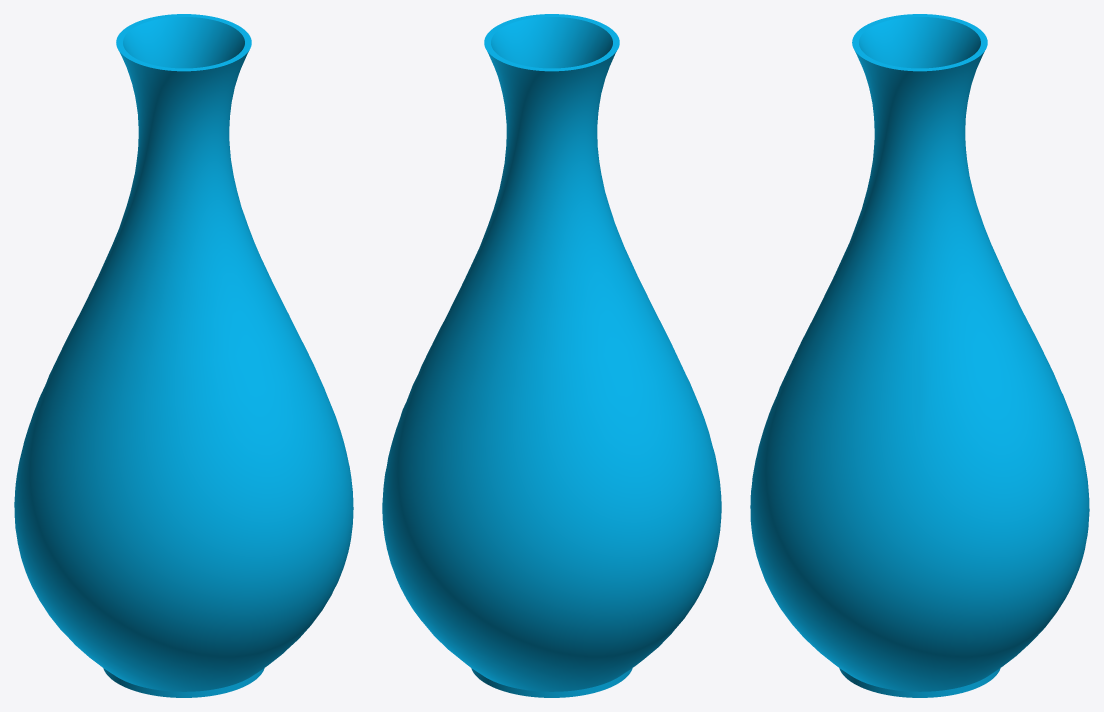
Rendered from vazo.gltf.
3 renders of one model, left to right at view 1: azimuth 30°, elevation 25°; view 2: azimuth 150°, elevation 25°; view 3: azimuth 270°, elevation 25°, orthographic.
Visible parts, largest first — view 1: Gövde; view 2: Gövde; view 3: Gövde.
Part boxes in pixels (<box>): Gövde: <box>14,14,353,697</box>; Gövde: <box>382,14,721,697</box>; Gövde: <box>750,14,1089,697</box>.
Bounding box in the file's own units: 0.5 × 1.01 × 0.4999.
